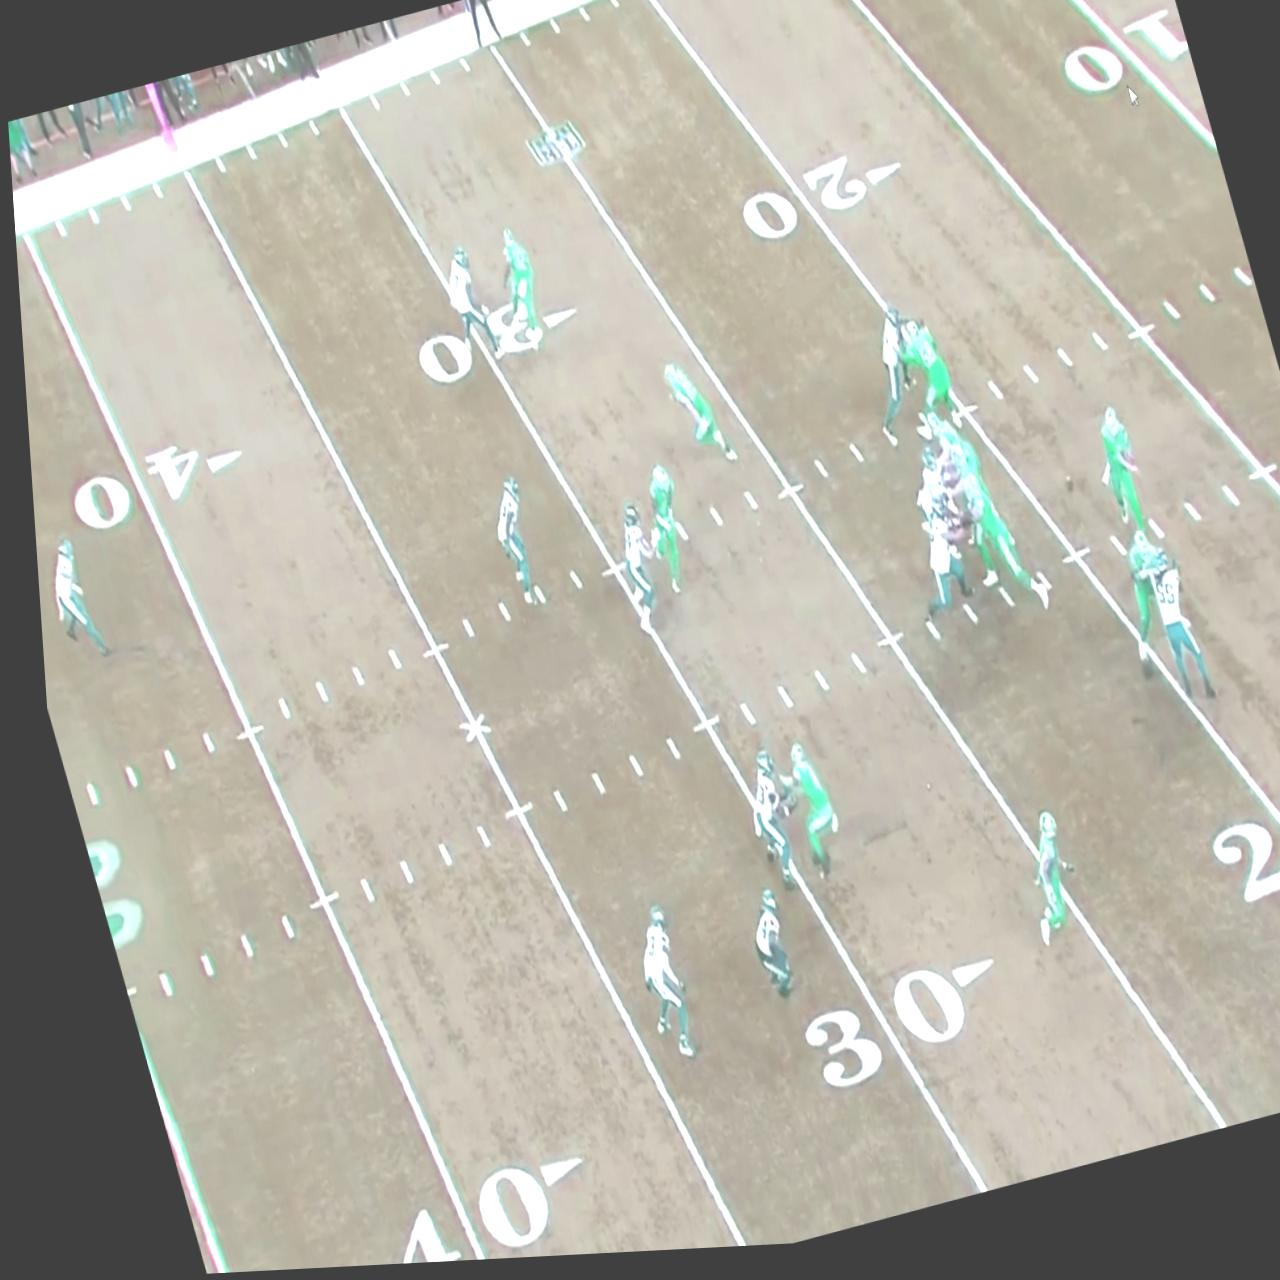10R: (1051, 15, 1193, 114)
20R: (729, 152, 912, 257), (1190, 785, 1280, 920)
30R: (781, 959, 1007, 1103), (403, 291, 587, 393)
40R: (354, 1151, 592, 1268), (59, 430, 251, 537)
